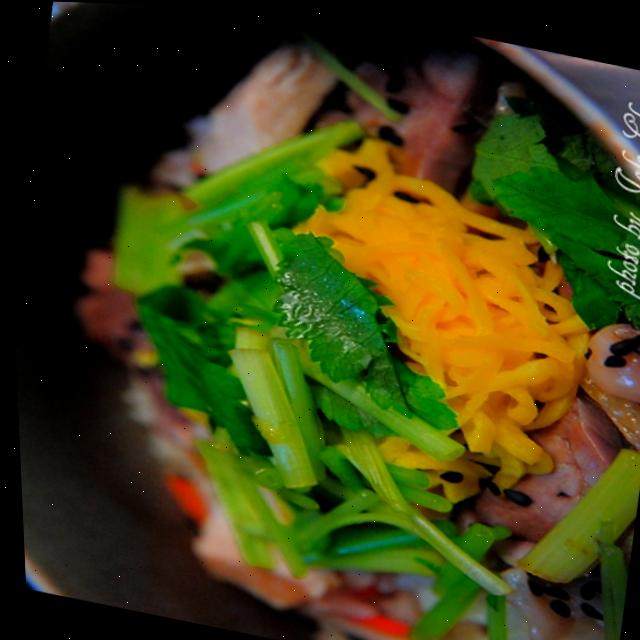刺身生食: (3, 0, 640, 573)
